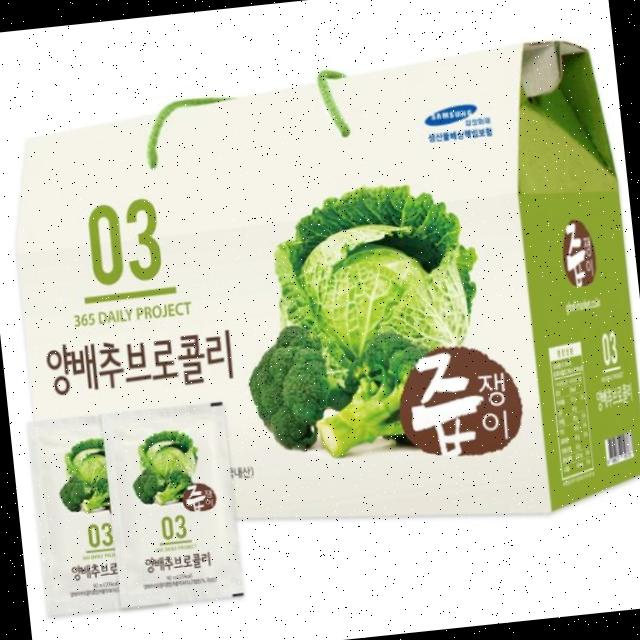cabbage: (260, 197, 433, 452), (46, 438, 119, 524)
